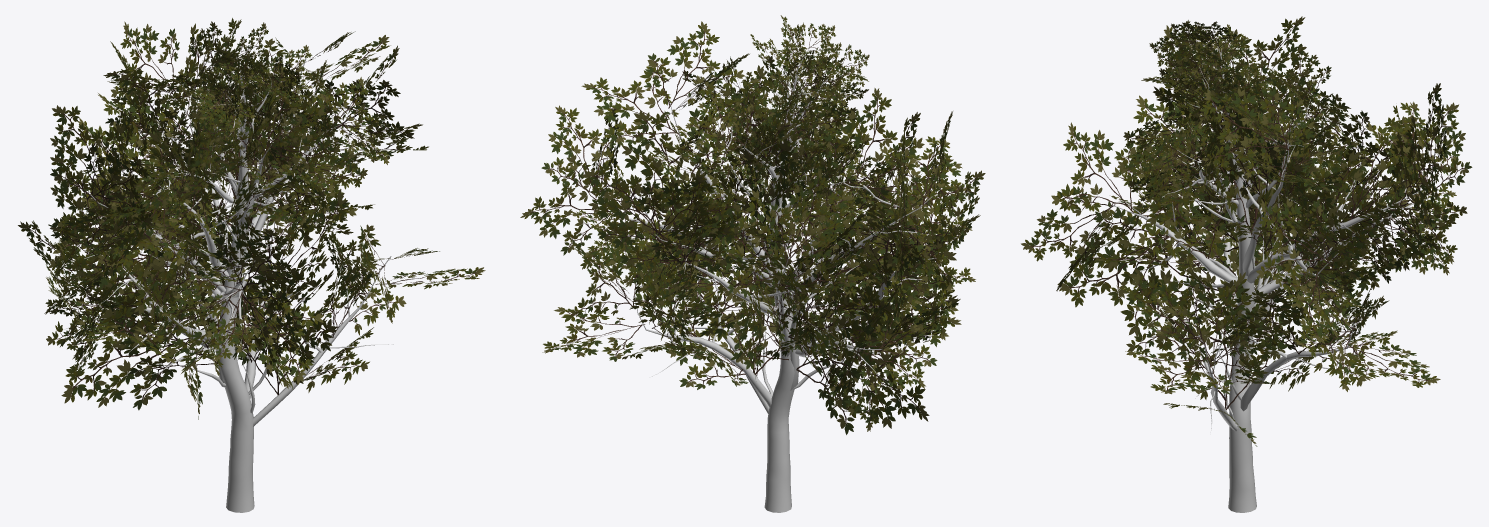
File: Tree_B.fbx
The picture shows the model from 3 angles, left to right: view 1: azimuth 30°, elevation 25°; view 2: azimuth 150°, elevation 25°; view 3: azimuth 270°, elevation 25°; orthographic projection. The views are drawn at different scales.
Visible parts, largest first — view 1: Tree_B; view 2: Tree_B; view 3: Tree_B.
Part boxes in pixels (left/top/right/bottom): Tree_B: left=18, top=18, right=485, bottom=512; Tree_B: left=520, top=15, right=985, bottom=512; Tree_B: left=1021, top=16, right=1472, bottom=512.
Bounding box in the file's own units: 9.16 × 10.21 × 8.59.
